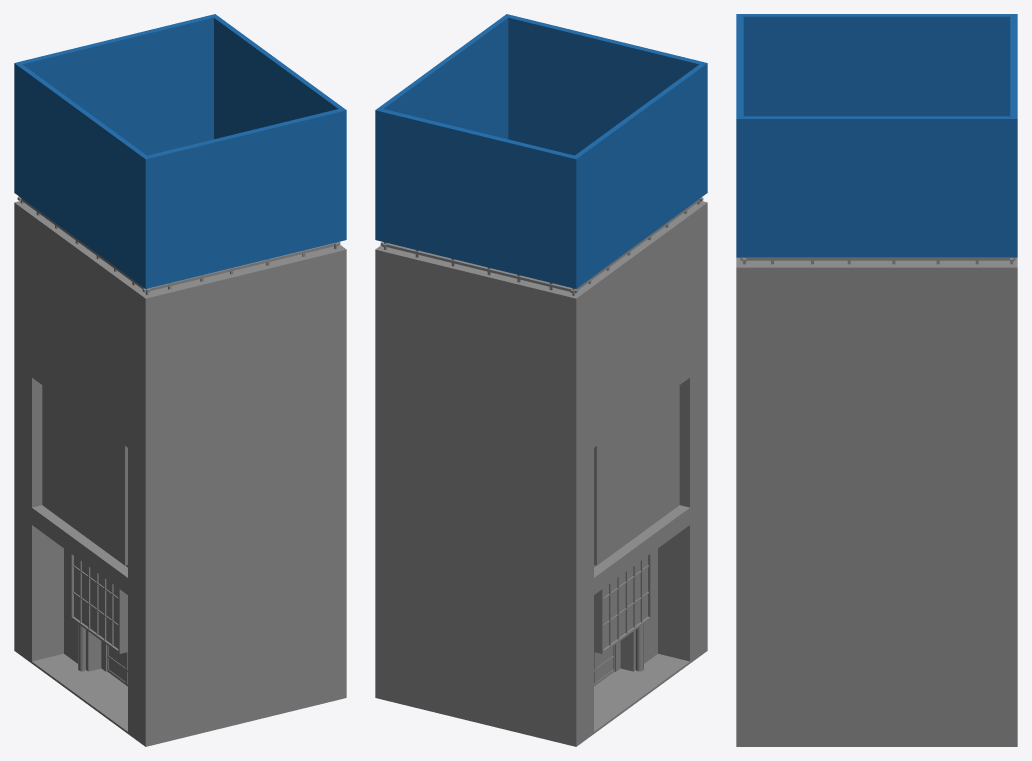
The model's file is buildings_M_01 1.fbx.
3 views of the same model, side by side, from view 1: azimuth 30°, elevation 25°; view 2: azimuth 150°, elevation 25°; view 3: azimuth 270°, elevation 25° (orthographic). The views are drawn at different scales.
Parts seen in each view (by area): view 1: buildings_M_01; view 2: buildings_M_01; view 3: buildings_M_01.
Boxes of the visible parts, x1,y1,x2,y2 form: buildings_M_01: [14, 14, 346, 746]; buildings_M_01: [375, 14, 707, 746]; buildings_M_01: [736, 14, 1017, 746].
Bounding box in the file's own units: 12.5 × 34.91 × 14.16.
